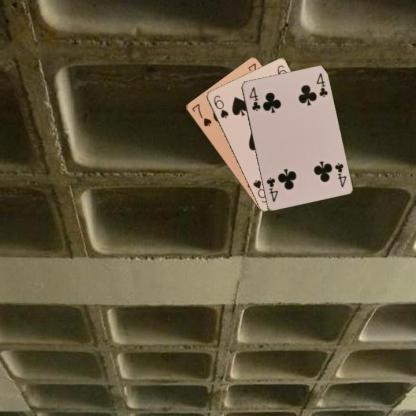4c: (332, 160, 348, 188), (247, 84, 262, 112)
6s: (211, 92, 229, 119)
7s: (189, 101, 213, 128)
